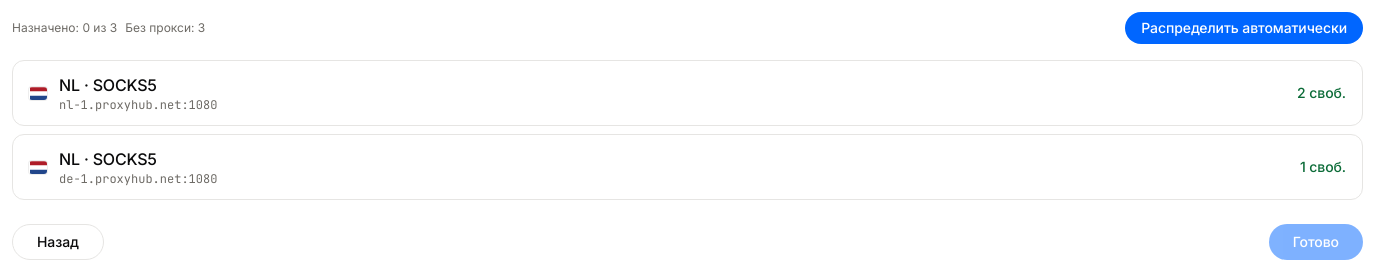
it: distribute walks the free proxies greedily in list order
The image size is (1378, 277).
Click the button "Распределить автоматически" at (1244, 28), box x1=1125 y1=12 x2=1363 y2=44
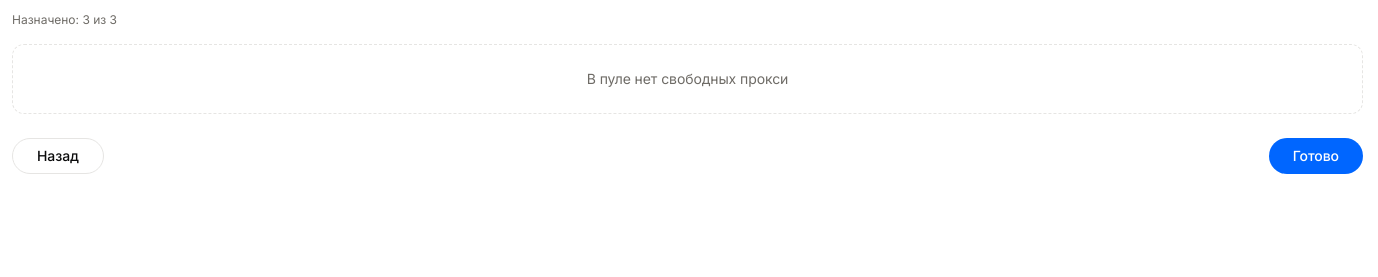
Expected: the text "Назначено: 3 из 3" is shown, x1=12 y1=12 x2=117 y2=28
Expected: the text "Без прокси" is gone
Expected: the button "Распределить автоматически" is gone
